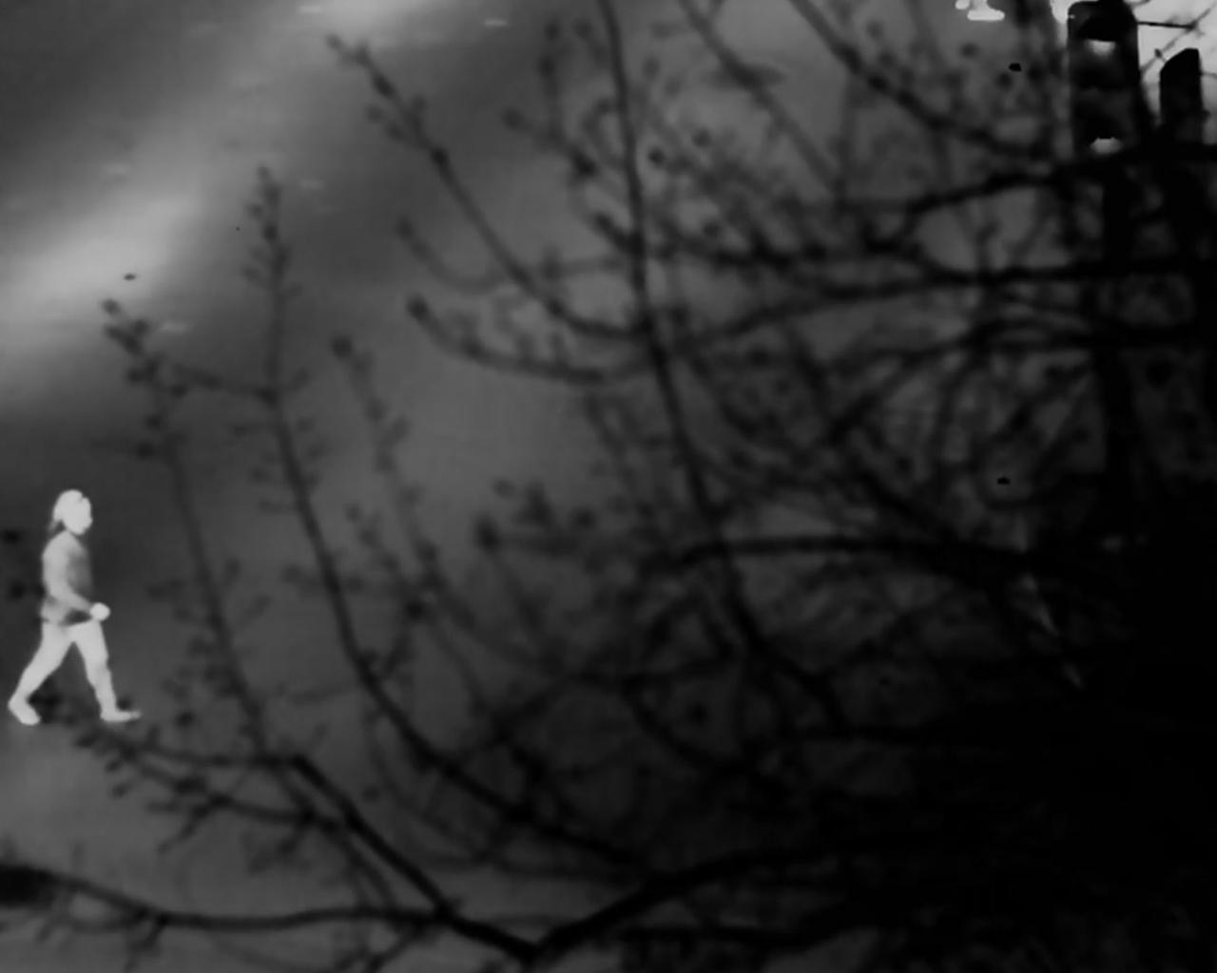person: (10, 487, 144, 728)
